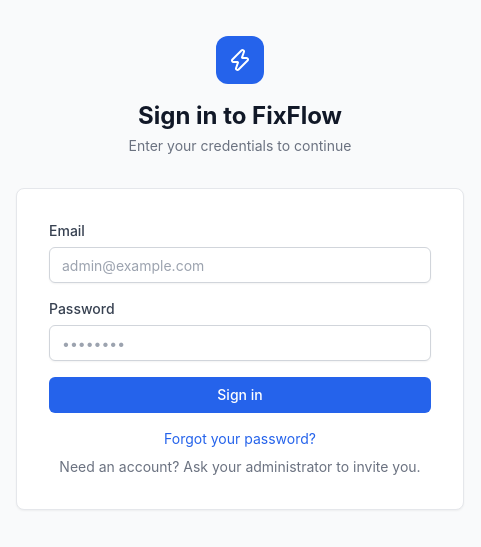
Test: LoginPage › shows validation errors on empty submit
Click the button "Sign in": (240, 395) [49,377,431,413]
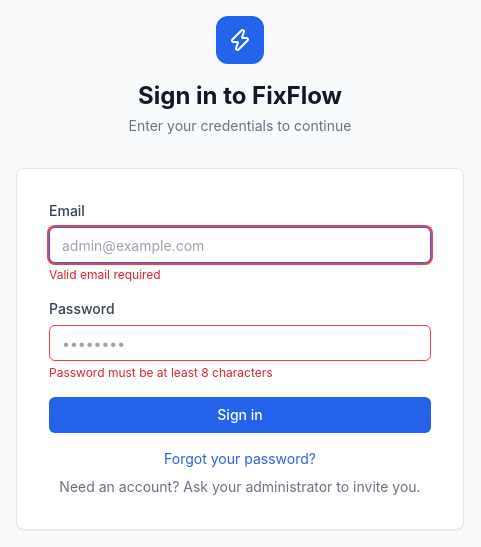
Result: the text "Valid email required" is shown at [49,267,161,282]
